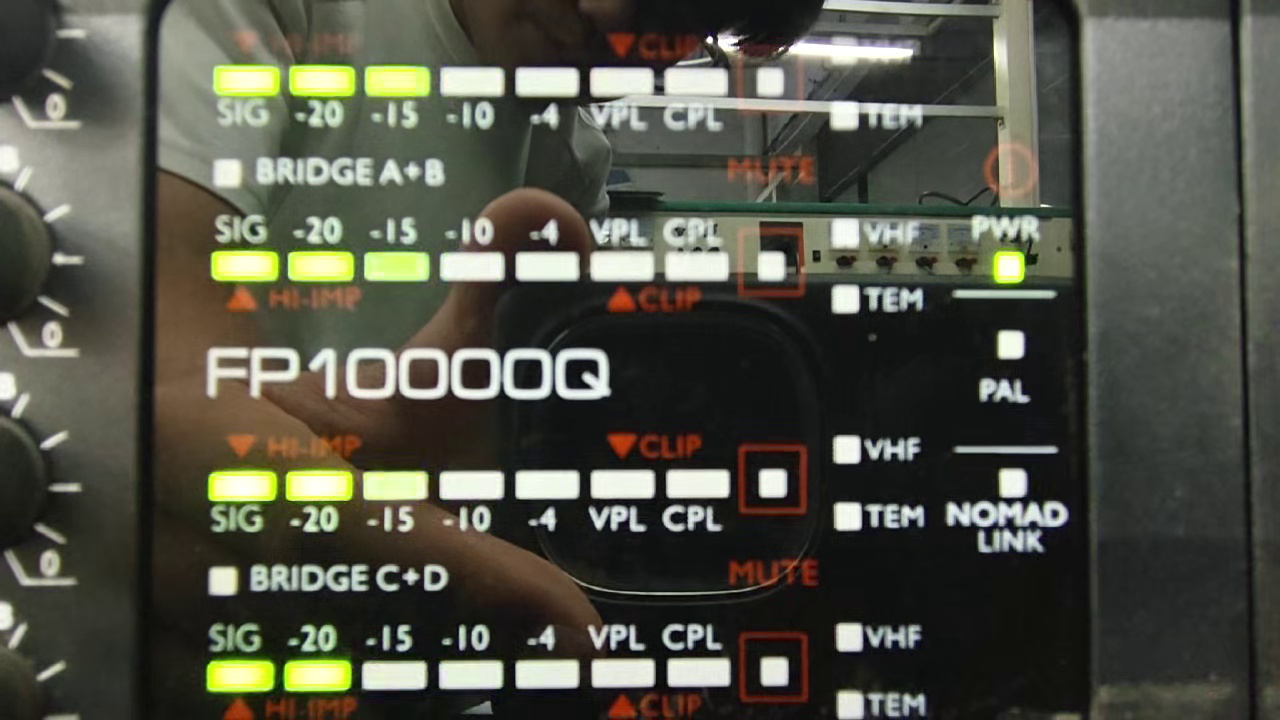FP_CPL: (659, 459, 735, 542), (661, 61, 732, 142), (660, 212, 729, 292), (660, 618, 736, 690)
FP_PWR: (966, 209, 1046, 291)
FP_PWR_area: (952, 137, 1055, 293)
FP_SIG_area: (198, 418, 932, 542), (210, 201, 936, 324), (204, 18, 929, 139), (200, 611, 930, 720)
FP_VPL: (585, 57, 661, 139), (586, 462, 659, 539), (583, 620, 661, 692), (584, 211, 656, 287)
